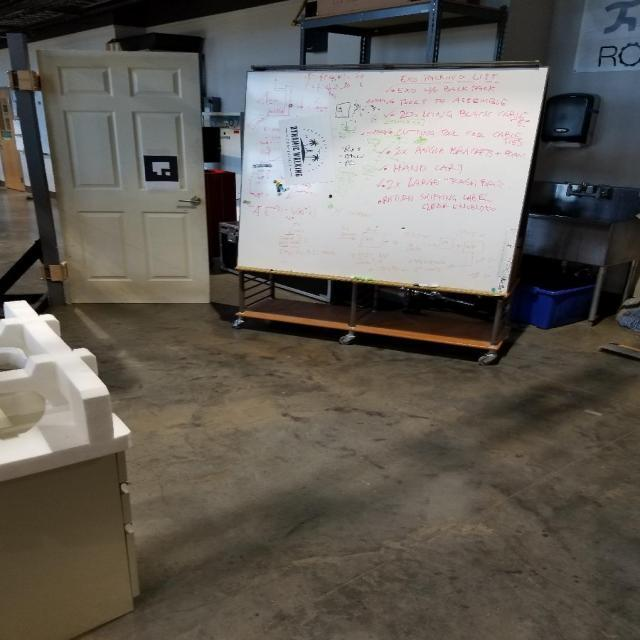door: (32, 44, 216, 305), (177, 196, 200, 208)
